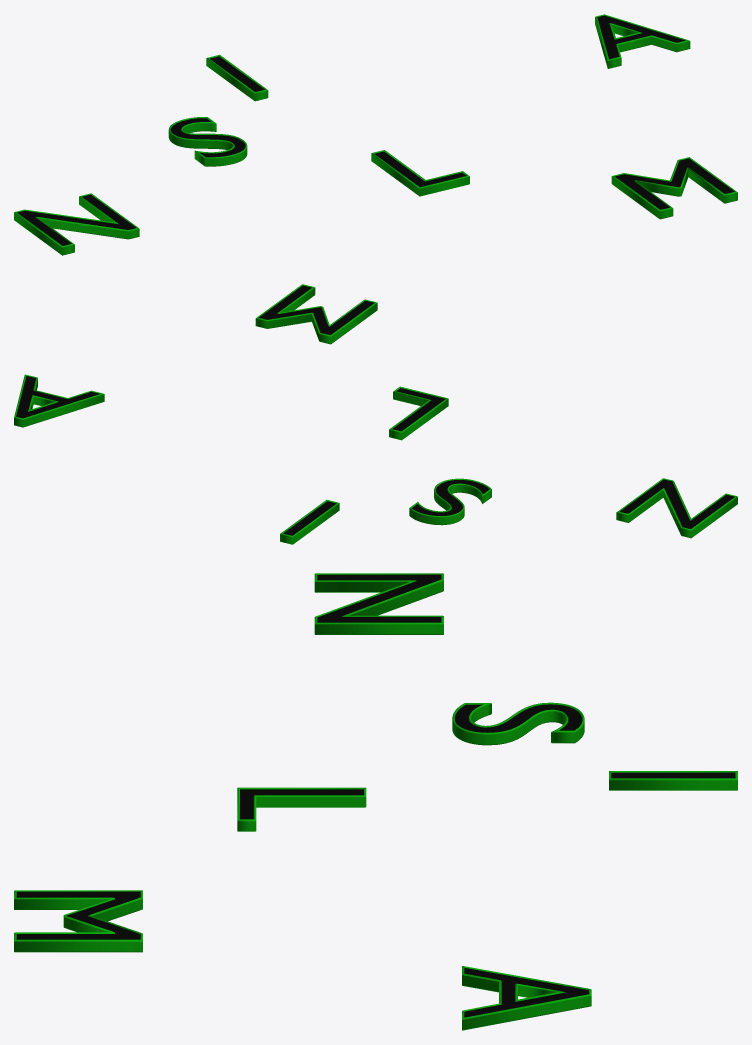
The model's file is Animals.fbx.
3 renders of one model, top to bottom at view 1: azimuth 30°, elevation 25°; view 2: azimuth 150°, elevation 25°; view 3: azimuth 270°, elevation 25°, orthographic. The views are drawn at different scales.
Visible parts, largest first — view 1: N, M, S, A, L, I; view 2: M, N, A, S, L, I; view 3: M, N, A, S, L, I.
Boxes of the visible parts, x1=… form: N: x1=14, y1=193, x2=139, y2=255; M: x1=611, y1=157, x2=737, y2=219; S: x1=168, y1=117, x2=247, y2=166; A: x1=595, y1=14, x2=690, y2=68; L: x1=371, y1=150, x2=469, y2=196; I: x1=206, y1=54, x2=268, y2=101; M: x1=255, y1=284, x2=377, y2=344; N: x1=616, y1=478, x2=737, y2=538; A: x1=14, y1=374, x2=104, y2=427; S: x1=409, y1=478, x2=491, y2=525; L: x1=389, y1=386, x2=448, y2=440; I: x1=280, y1=500, x2=339, y2=544; M: x1=14, y1=890, x2=142, y2=952; N: x1=314, y1=573, x2=443, y2=634; A: x1=462, y1=966, x2=591, y2=1030; S: x1=452, y1=702, x2=584, y2=745; L: x1=237, y1=787, x2=366, y2=831; I: x1=609, y1=771, x2=737, y2=790.
Size of the model in its own units: 84.6 by 1.12 by 58.03.
